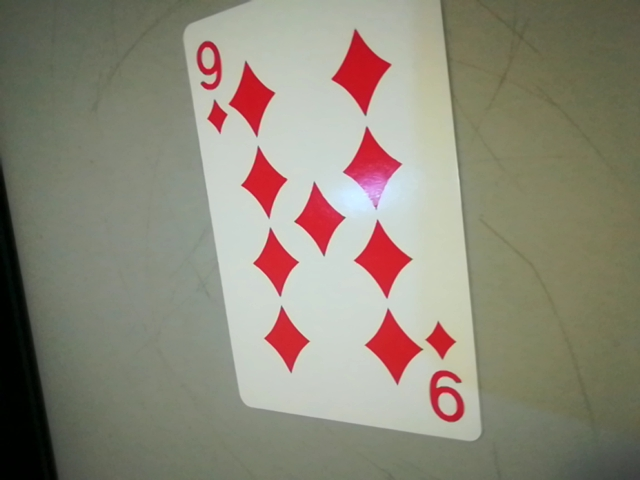fk 9: (418, 315, 479, 437)
